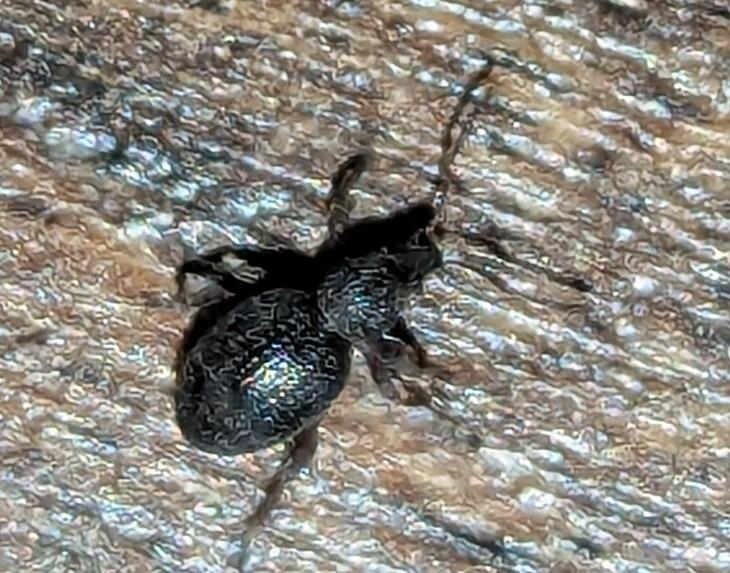weevils: (119, 112, 561, 504)
